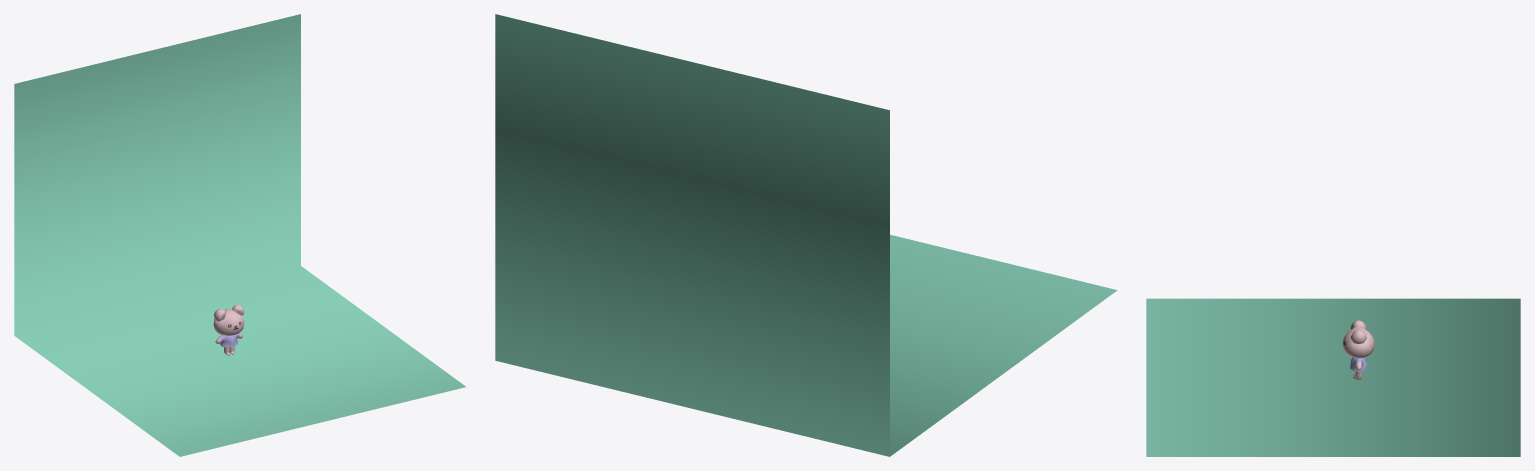
Rendered from Froggy.glb.
3 renders of one model, left to right at view 1: azimuth 30°, elevation 25°; view 2: azimuth 150°, elevation 25°; view 3: azimuth 270°, elevation 25°, orthographic. The views are drawn at different scales.
Visible parts, largest first — view 1: Plane, head; view 2: Plane; view 3: Plane, head.
Boxes of the visible parts, bbox=[...] form: Plane: bbox=[14, 14, 465, 456]; head: bbox=[213, 305, 244, 335]; Plane: bbox=[495, 14, 1117, 456]; Plane: bbox=[1146, 298, 1520, 456]; head: bbox=[1342, 320, 1374, 358].
Bounding box in the file's own units: 23.09 × 19.39 × 23.09.
2 materials, 1 textured.
